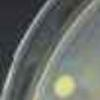yellow: (49, 73, 78, 99)
